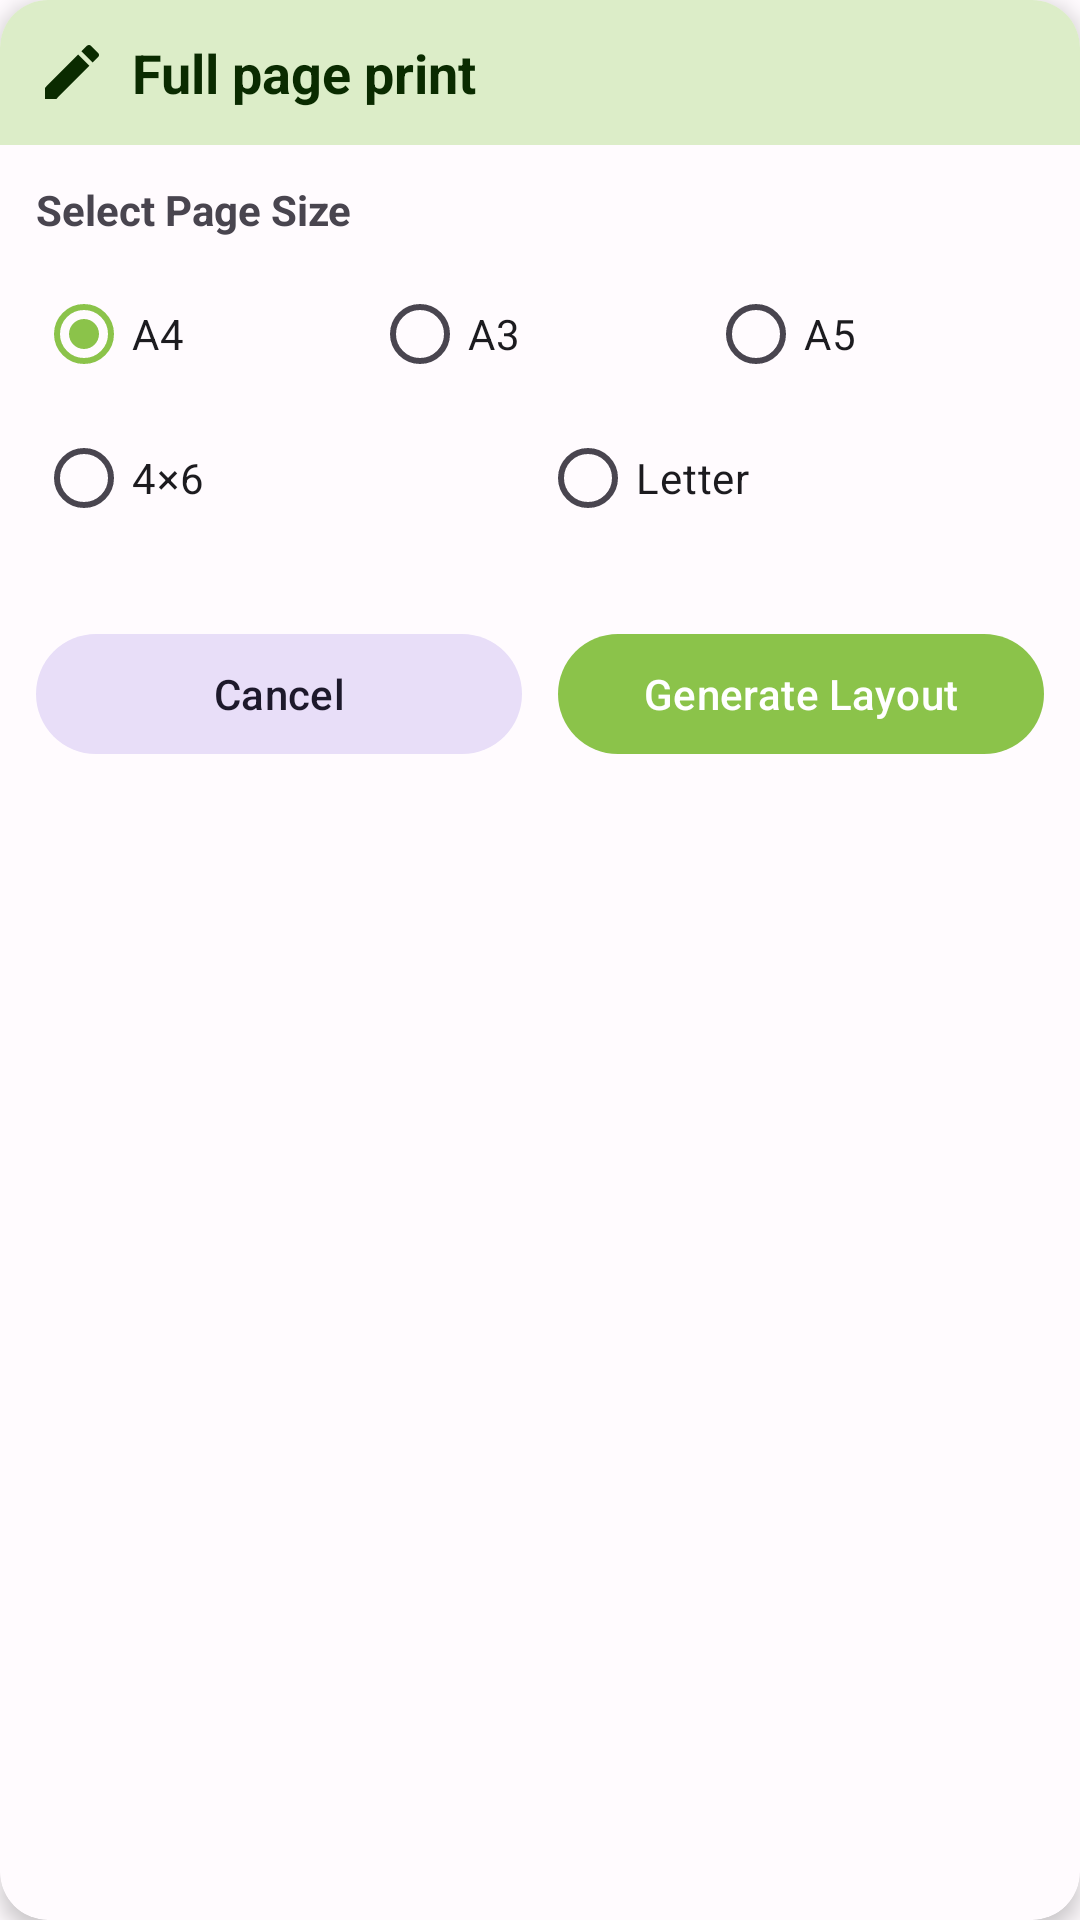

Named icons in this screenshot (1080×1920) and their bounding boxes, bbox=(x1, y1, x2, y2):
edit: bbox=(45, 45, 99, 99)
